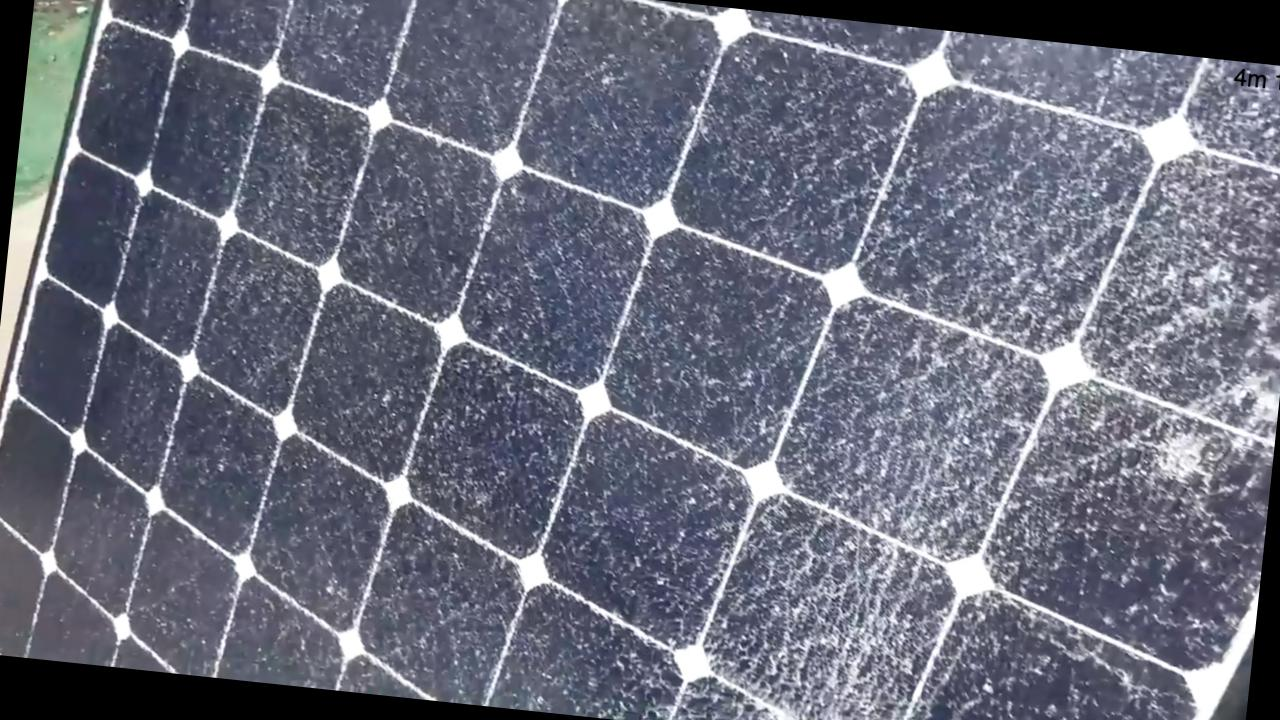Crack: (741, 23, 1279, 547), (311, 186, 761, 719), (368, 0, 783, 230), (189, 0, 392, 318), (710, 500, 982, 719), (964, 530, 1263, 719), (1118, 382, 1234, 526)
